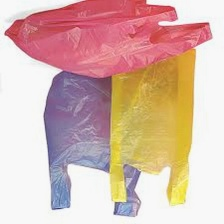plastic_bag: (3, 0, 218, 80), (38, 69, 150, 221), (106, 44, 200, 206)
